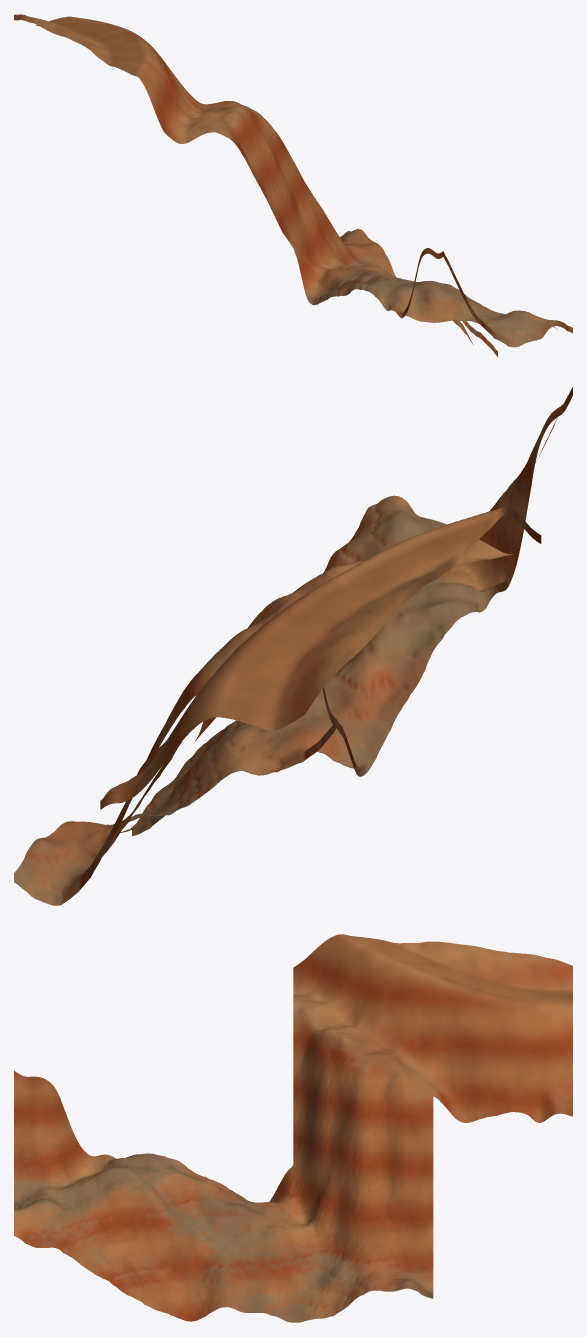
The model's file is terrain-009.glb.
3 views of the same model, one above another, from view 1: azimuth 30°, elevation 25°; view 2: azimuth 150°, elevation 25°; view 3: azimuth 270°, elevation 25° (orthographic). The views are drawn at different scales.
Visible parts, largest first — view 1: terrain-009; view 2: terrain-009; view 3: terrain-009.
Boxes of the visible parts, x1,y1,x2,y2 form: terrain-009: (14,14,572,356); terrain-009: (14,387,572,905); terrain-009: (14,934,572,1322).
Size of the model in its own units: 192 by 205 by 384.
